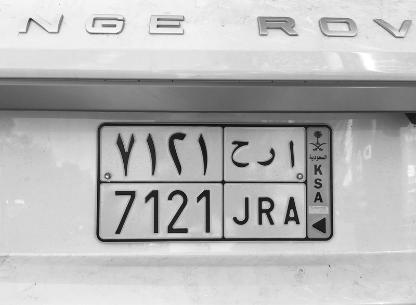license plate: (94, 120, 334, 243)
